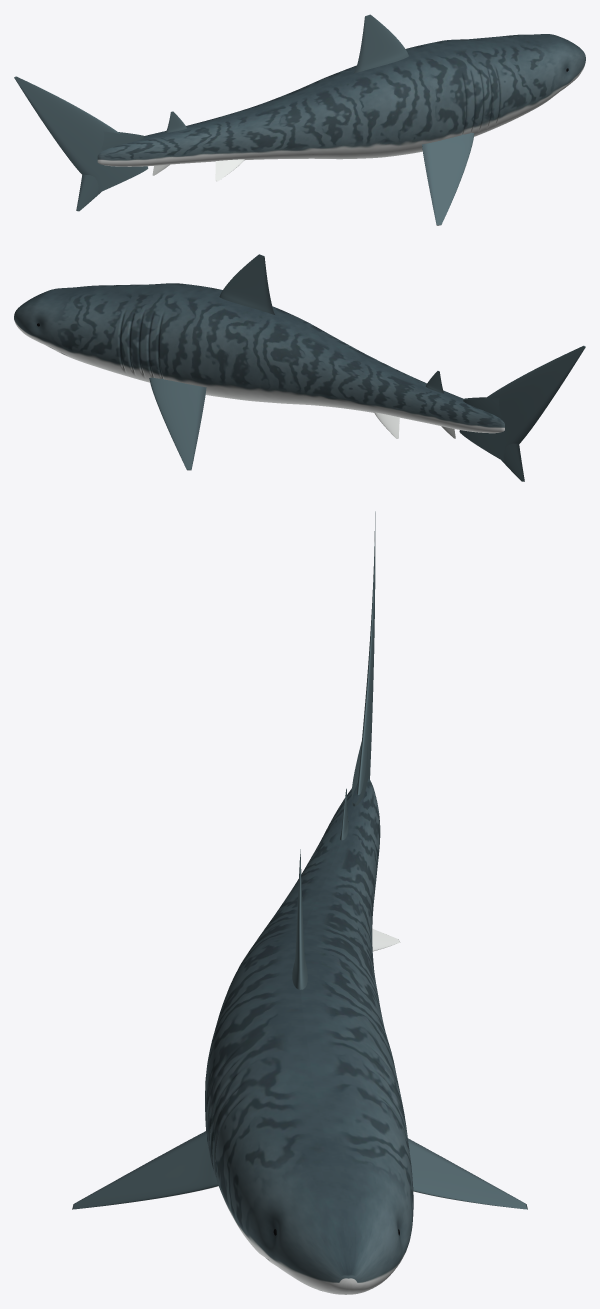
The model's file is tiger_shark.glb.
3 views of the same model, one above another, from view 1: azimuth 30°, elevation 25°; view 2: azimuth 150°, elevation 25°; view 3: azimuth 270°, elevation 25° (orthographic). The views are drawn at different scales.
Visible parts, largest first — view 1: TigerShark_Body, TigerShark_Fins; view 2: TigerShark_Body, TigerShark_Fins; view 3: TigerShark_Body, TigerShark_Fins.
Part boxes in pixels (x1,y1,x2,y2): TigerShark_Body: [97, 34, 585, 166]; TigerShark_Fins: [14, 14, 474, 225]; TigerShark_Body: [14, 283, 504, 433]; TigerShark_Fins: [149, 254, 585, 481]; TigerShark_Body: [205, 778, 413, 1294]; TigerShark_Fins: [72, 511, 527, 1209].
Bounding box in the file's own units: 3.9 × 1.18 × 1.37.
3 materials, 1 textured.
